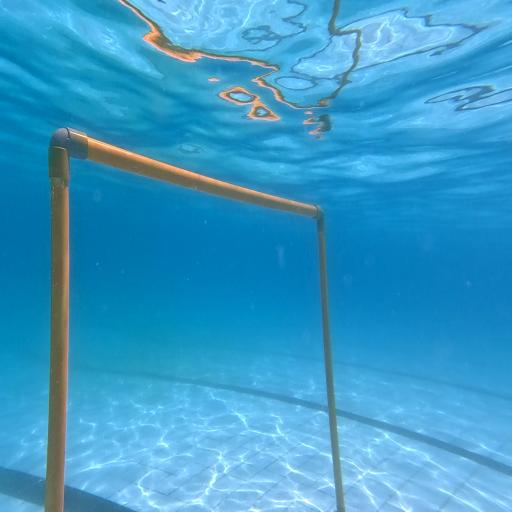gate: (47, 126, 345, 512)
